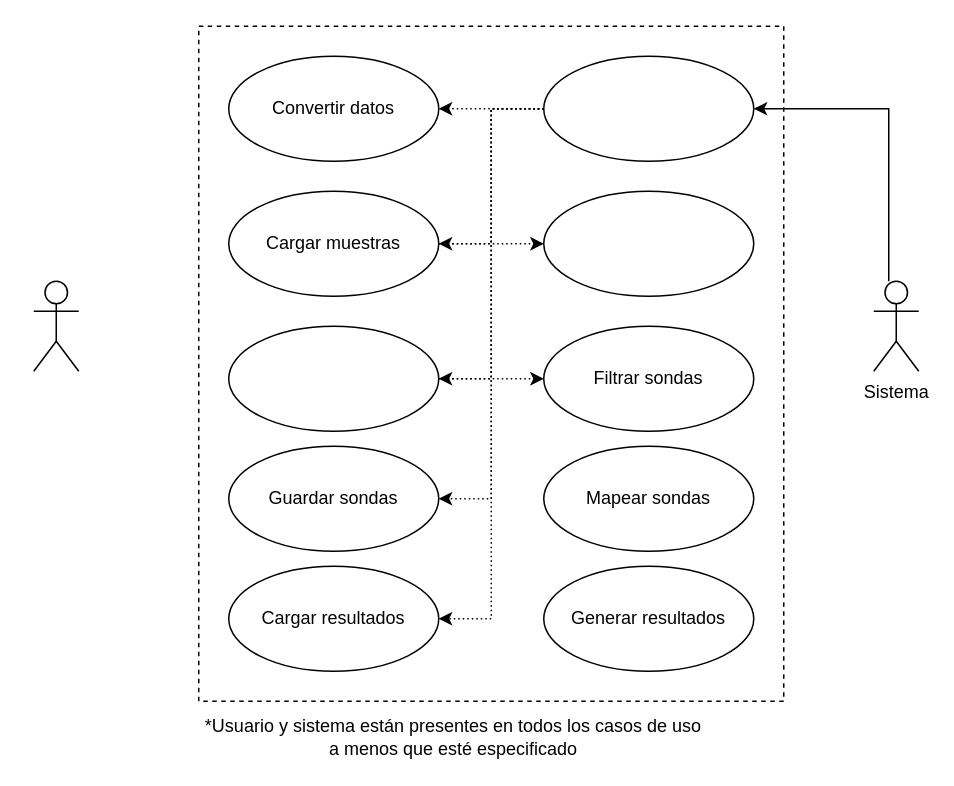
The diagram is 954 pixels wide and 786 high, and some of its shapes have lost their labels. The shapes that lost their labels are listed below. From the top down, each one's centre as x and y in pixels, then its label:
At (x=648, y=108): "Avisar (loguear)".
At (x=648, y=243): "Procesar muestras".
At (x=55, y=325): "Usuario".
At (x=333, y=378): "Cargar sondas".
